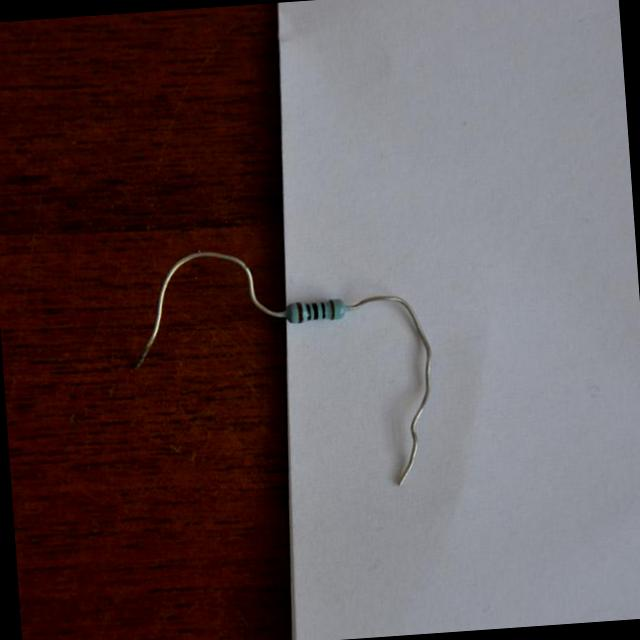Resistor: (286, 299, 347, 323)
black: (311, 302, 317, 320), (305, 302, 311, 320), (320, 302, 325, 319)
brown: (296, 302, 303, 324), (329, 299, 334, 320)
